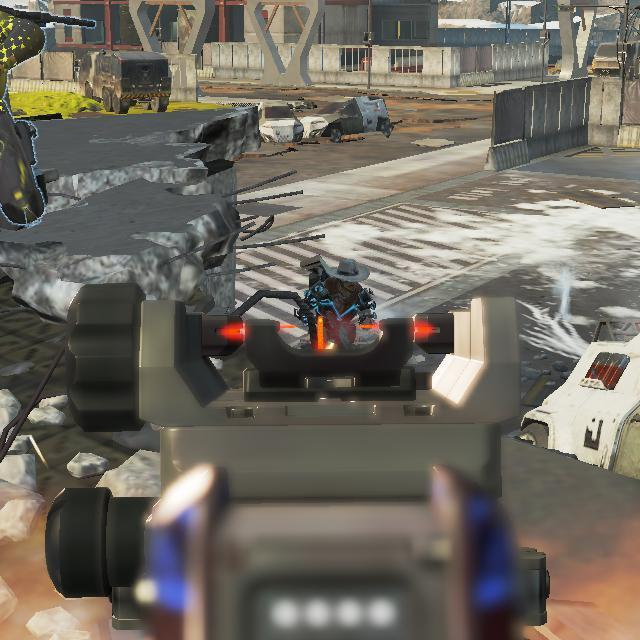avatar: (297, 255, 379, 349)
